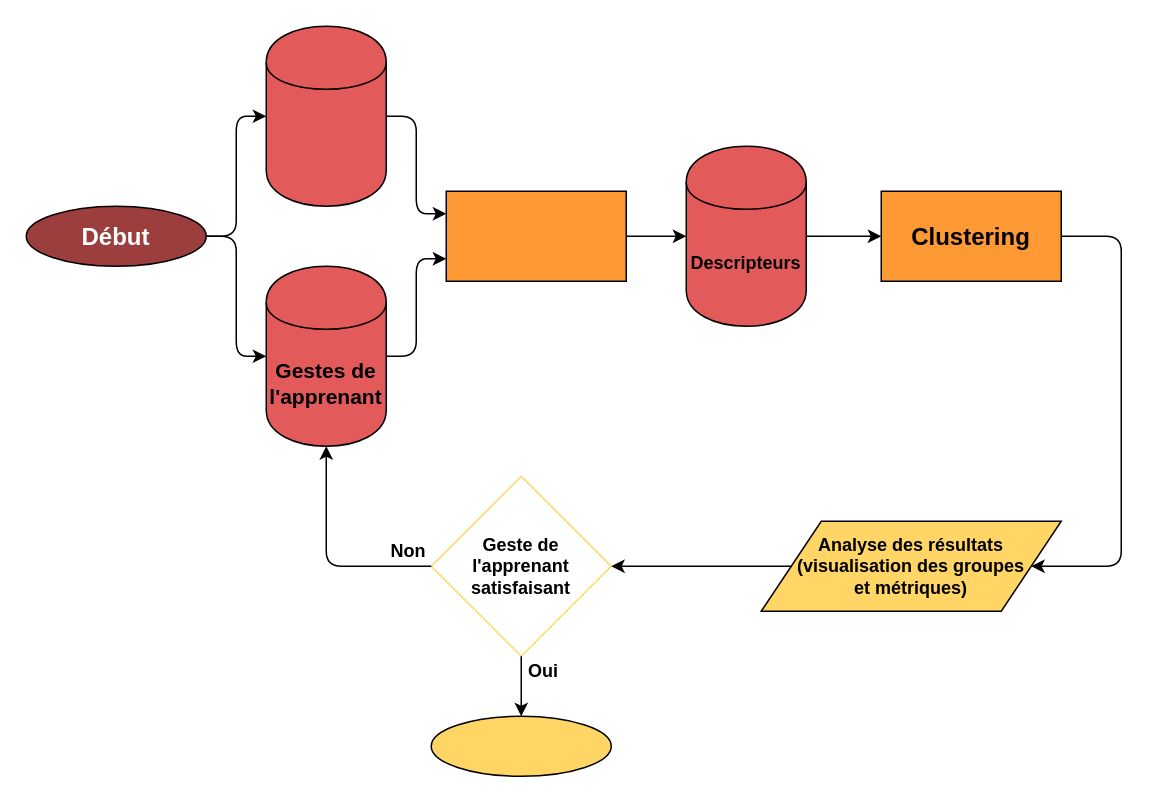
This 1160x803 diagram has some shape labels left out. Each missing label, with the centre of its shape:
Fin: the point at 520,745
Gestes de l'expert (bons et mauvais): the point at 325,115
Pré-traitements: the point at 535,235
